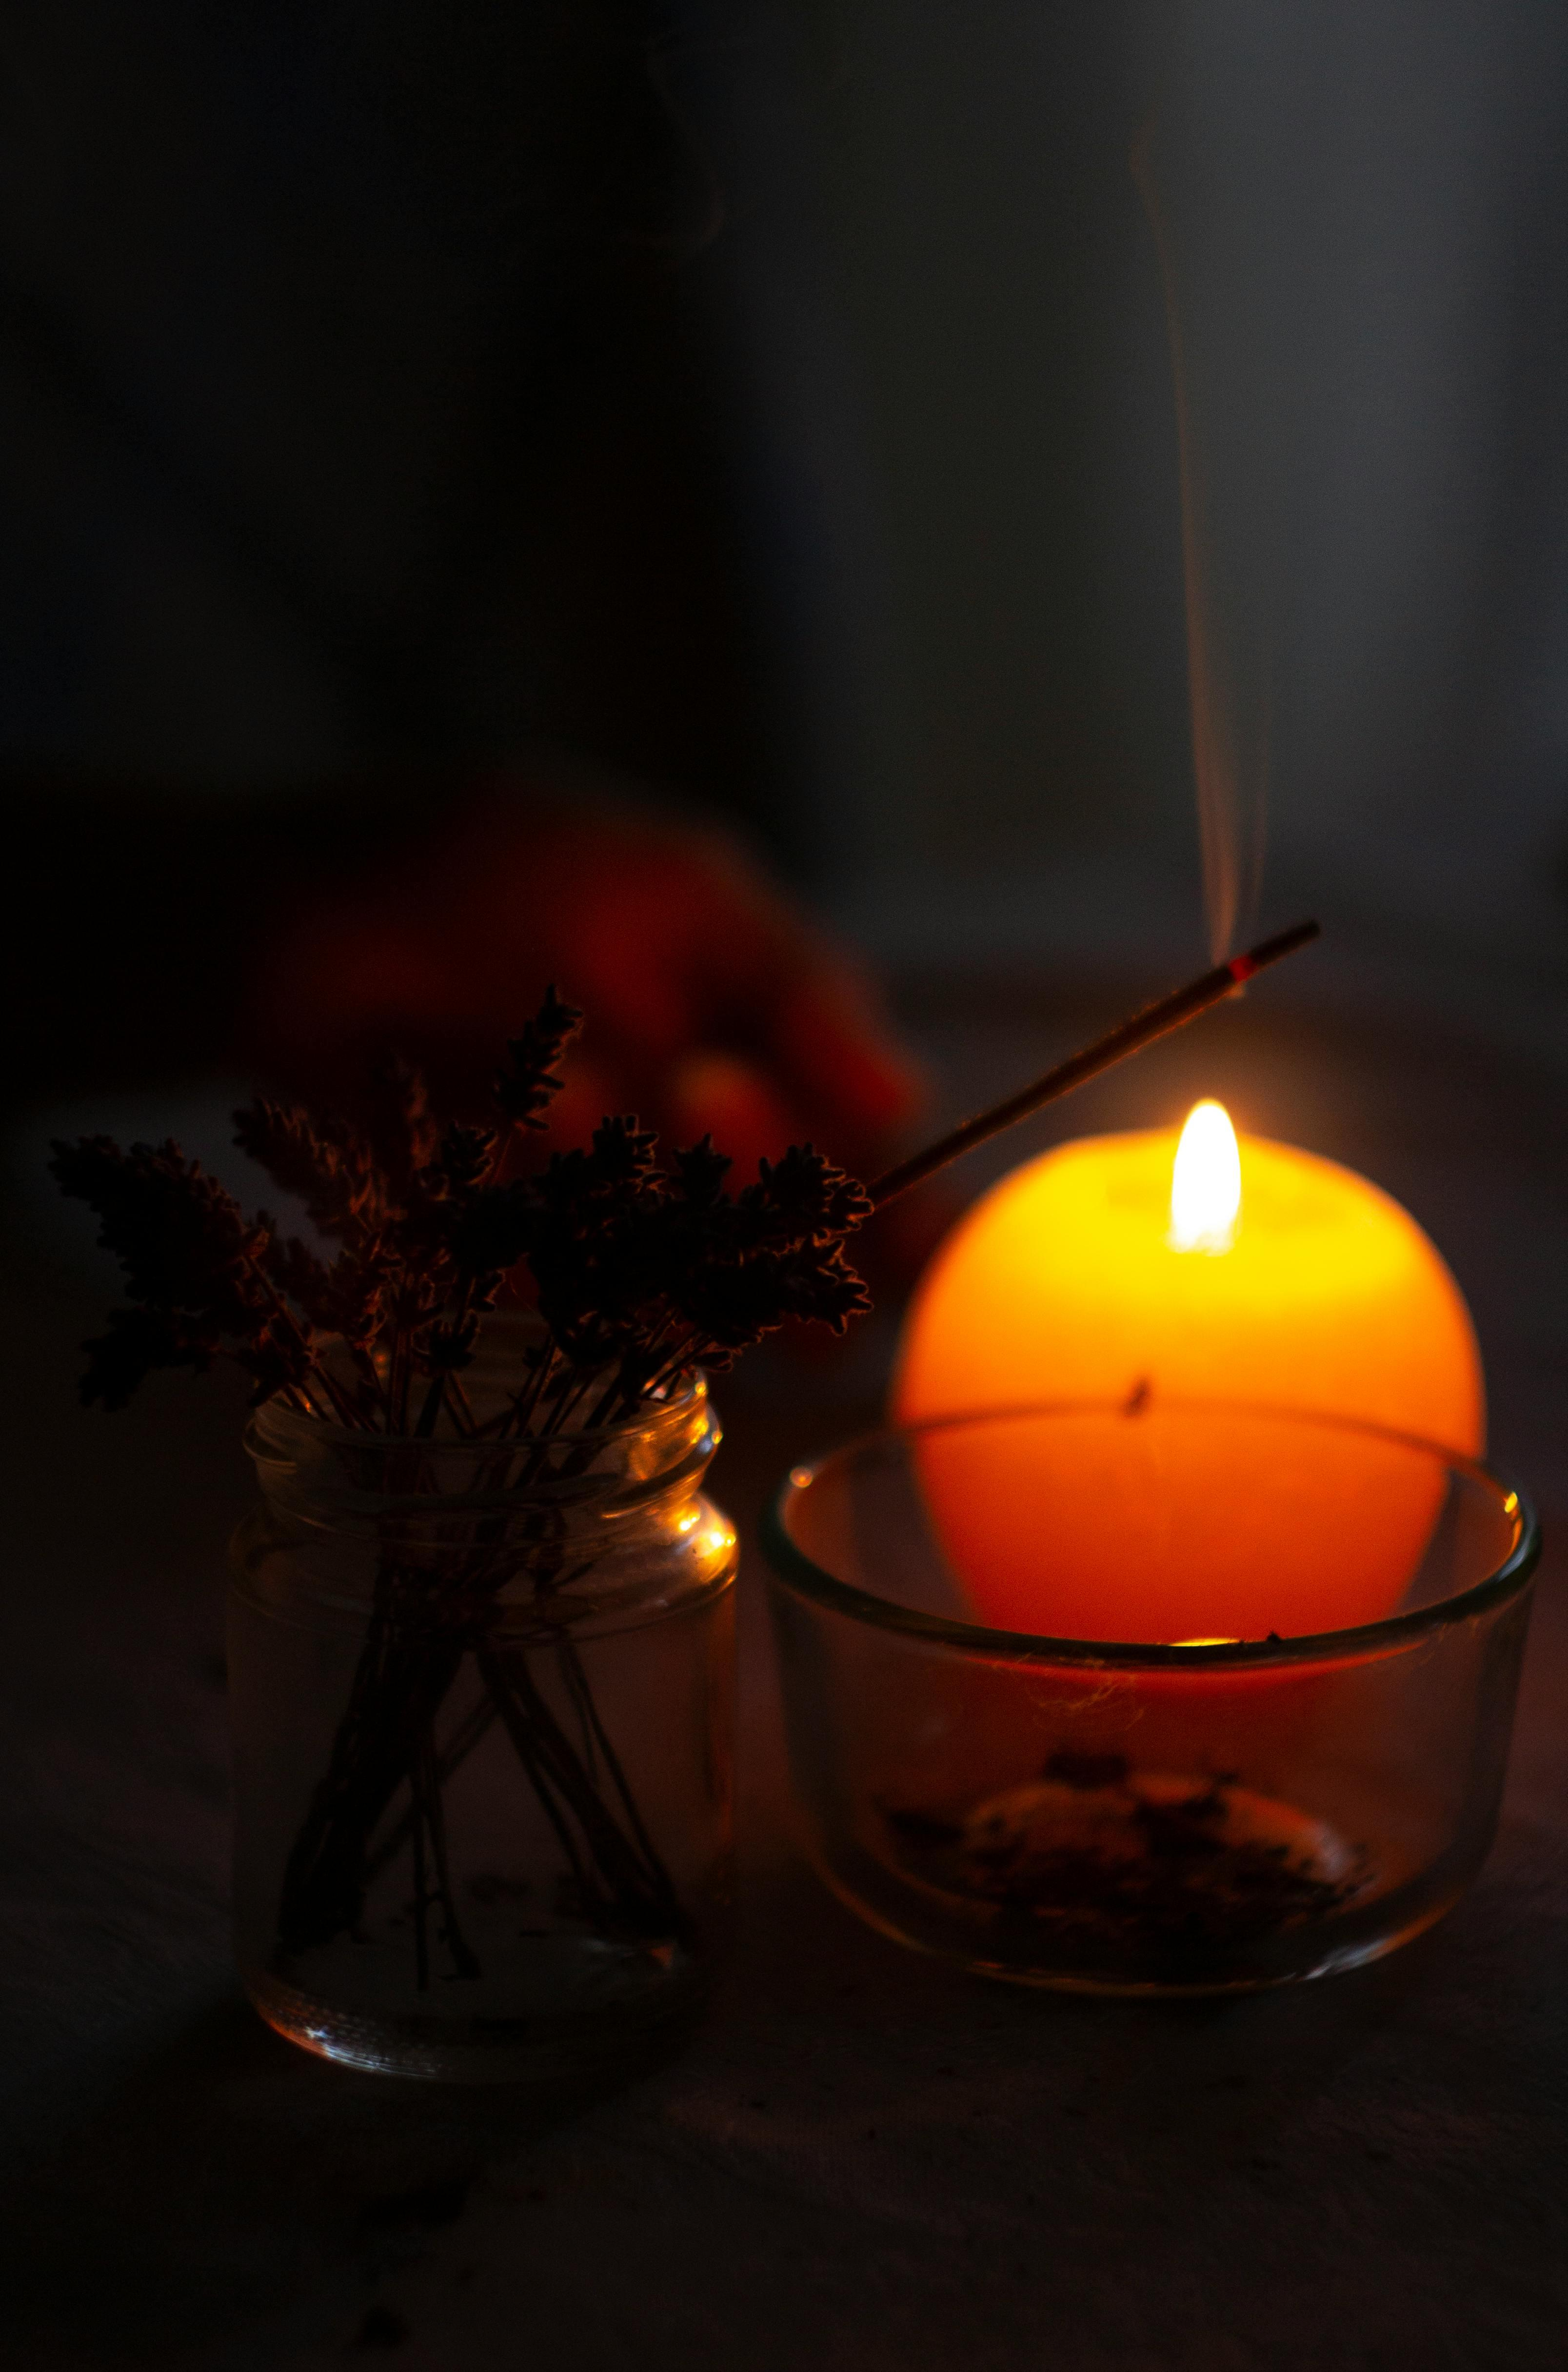Fire: (1151, 1064, 1279, 1277)
